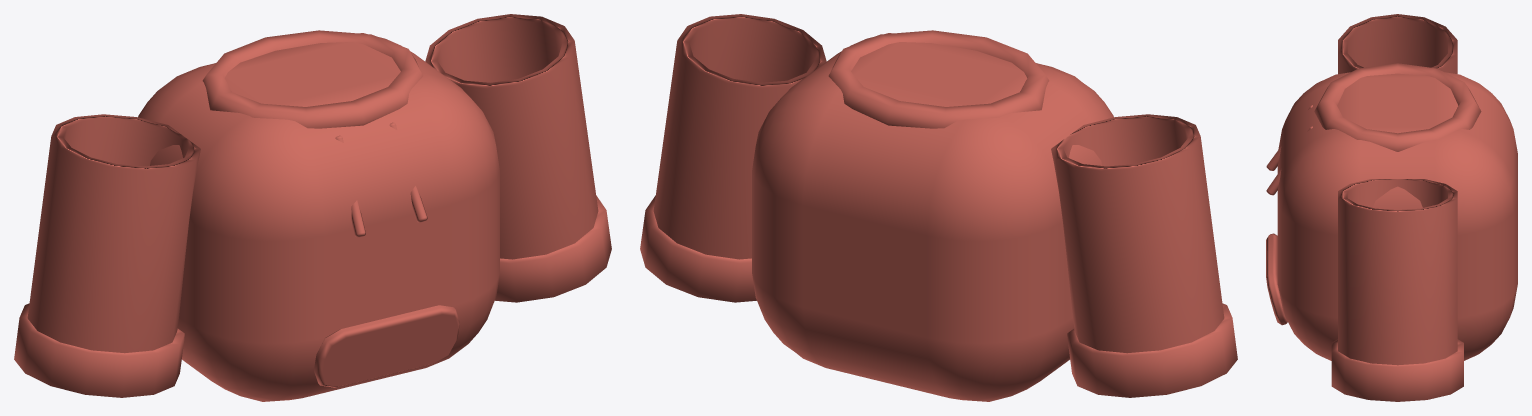
Rendered from anorak_jacket.glb.
3 views of the same model, side by side, from view 1: azimuth 30°, elevation 25°; view 2: azimuth 150°, elevation 25°; view 3: azimuth 270°, elevation 25° (orthographic). The views are drawn at different scales.
Parts seen in each view (by area): view 1: anorak_jacket_Body, anorak_jacket_ArmL, anorak_jacket_ArmR; view 2: anorak_jacket_Body, anorak_jacket_ArmL, anorak_jacket_ArmR; view 3: anorak_jacket_Body, anorak_jacket_ArmR, anorak_jacket_ArmL.
Part boxes in pixels (x1,y1,x2,y2): anorak_jacket_Body: [138, 30, 499, 401]; anorak_jacket_ArmL: [14, 114, 200, 397]; anorak_jacket_ArmR: [425, 14, 611, 302]; anorak_jacket_Body: [752, 30, 1113, 401]; anorak_jacket_ArmL: [1051, 114, 1237, 397]; anorak_jacket_ArmR: [640, 14, 826, 302]; anorak_jacket_Body: [1266, 63, 1517, 360]; anorak_jacket_ArmR: [1331, 179, 1463, 401]; anorak_jacket_ArmL: [1338, 14, 1457, 73].
Size of the model in its own units: 0.6504 by 0.3119 by 0.3041.
